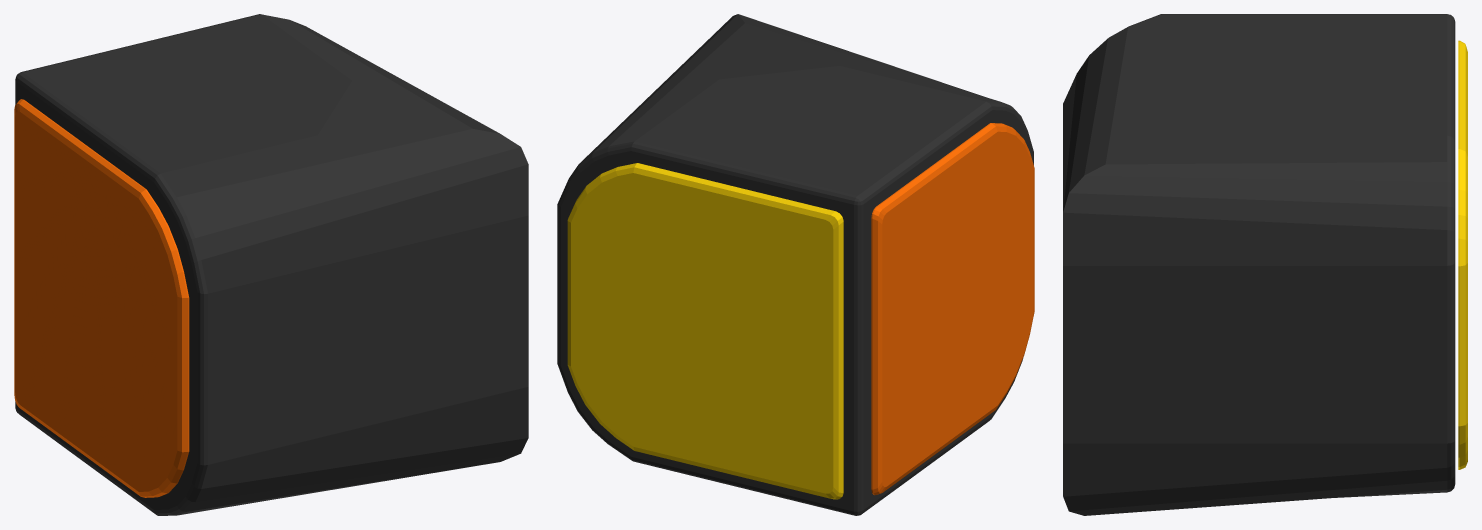
The picture shows the model from 3 angles, left to right: view 1: azimuth 30°, elevation 25°; view 2: azimuth 150°, elevation 25°; view 3: azimuth 270°, elevation 25°; orthographic projection. The views are drawn at different scales.
Visible parts, largest first — view 1: Cube.022, Cube.052; view 2: Cube.081, Cube.022, Cube.052; view 3: Cube.022, Cube.081.
Part boxes in pixels (x1=…): Cube.022: x1=15, y1=14, x2=528, y2=515; Cube.052: x1=14, y1=99, x2=189, y2=497; Cube.081: x1=567, y1=163, x2=843, y2=499; Cube.022: x1=557, y1=14, x2=1033, y2=515; Cube.052: x1=871, y1=123, x2=1034, y2=495; Cube.022: x1=1063, y1=14, x2=1455, y2=515; Cube.081: x1=1458, y1=40, x2=1467, y2=469.
Size of the model in its own units: 206 by 200 by 206.
